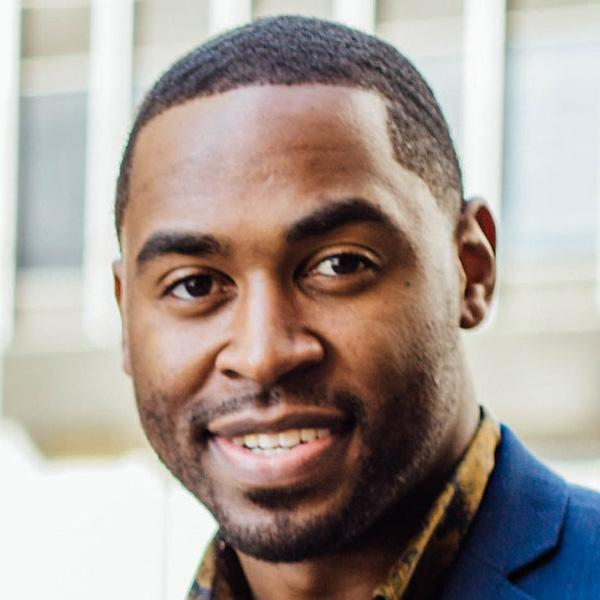Eyes: (291, 232, 397, 300), (141, 256, 239, 326)
